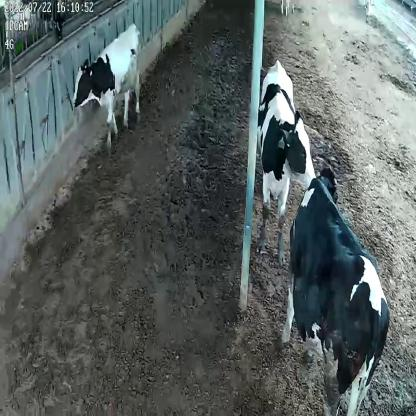cow: (279, 162, 389, 414), (259, 59, 314, 260), (73, 24, 145, 149)
